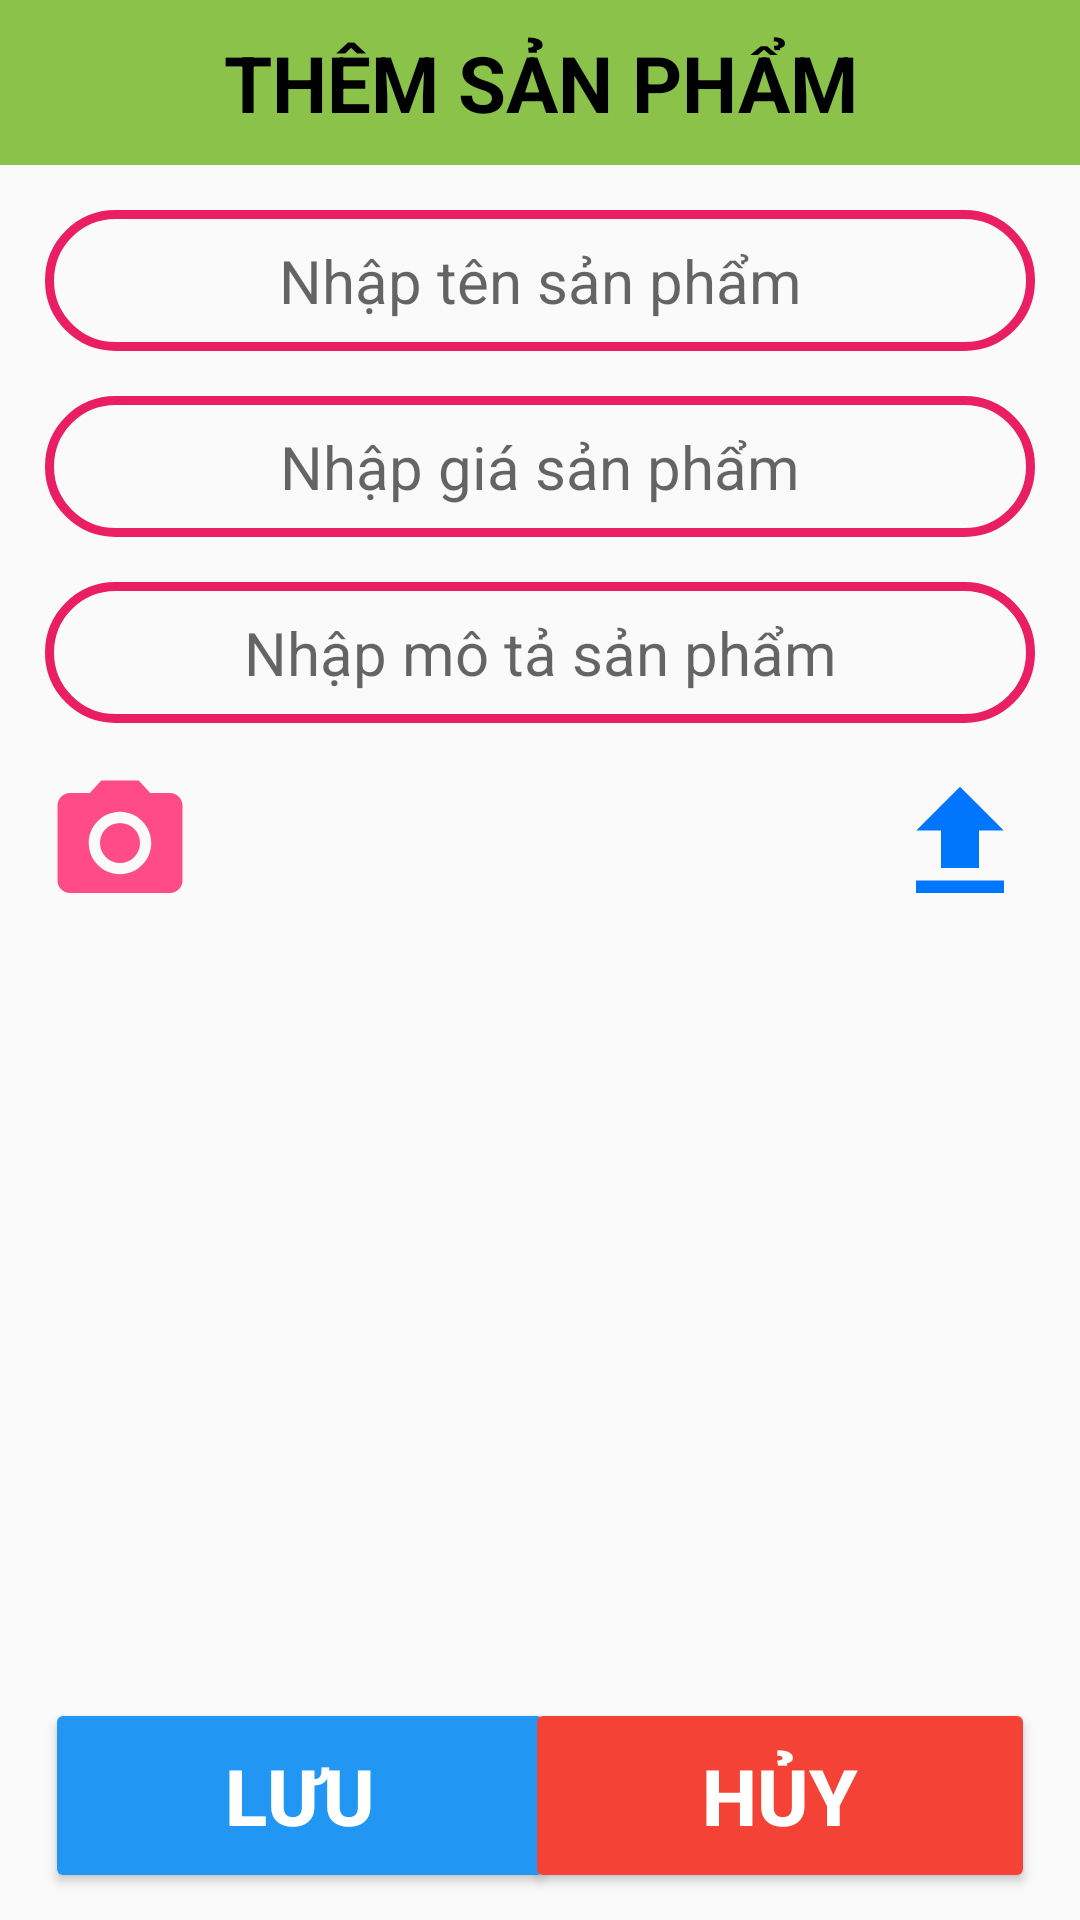

Icon click points for this 1080*1920 phone screenshot, format (x,y):
camera: (120,836)
file upload: (960,840)
